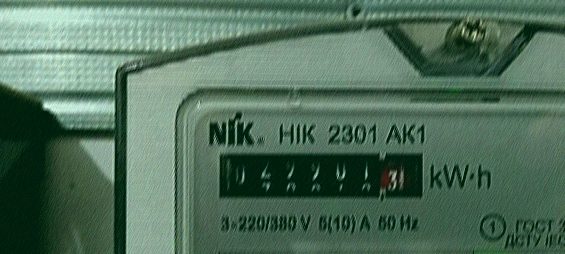0: (332, 156, 347, 181), (231, 162, 246, 184)
1: (359, 156, 371, 180)
2: (257, 157, 272, 179)
3: (384, 168, 399, 191)
9: (308, 158, 320, 181), (283, 157, 295, 178)
screen: (210, 145, 431, 207)
